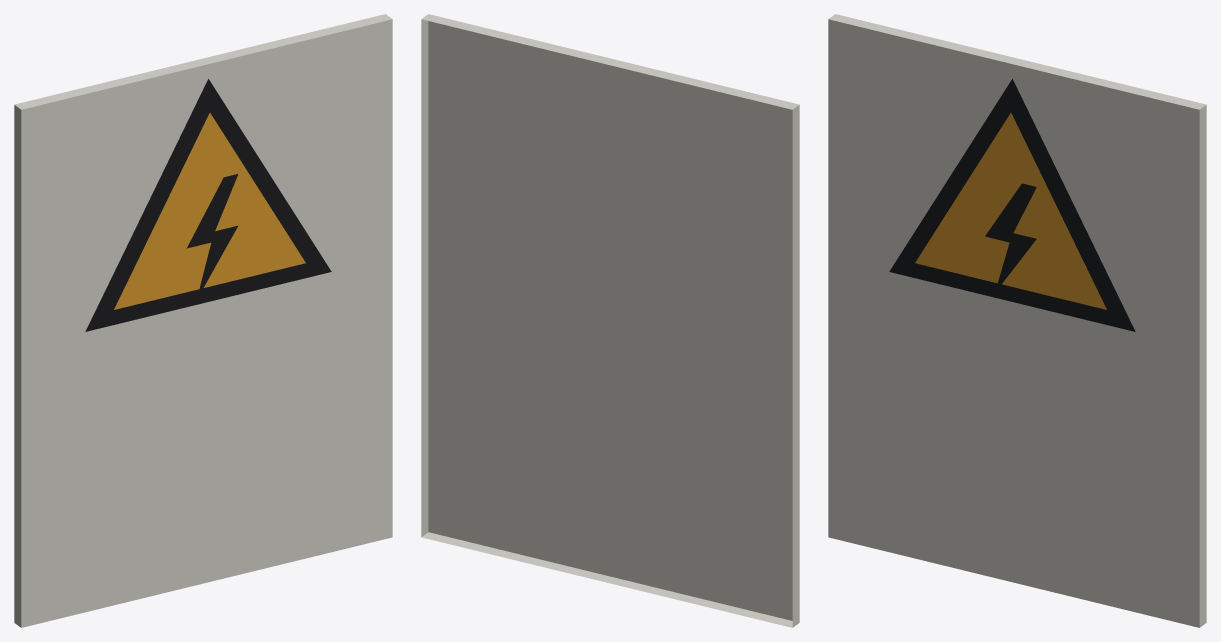
File: dc_sign_voltage.glb
3 renders of one model, left to right at view 1: azimuth 30°, elevation 25°; view 2: azimuth 150°, elevation 25°; view 3: azimuth 330°, elevation 25°, orthographic.
Parts seen in each view (by area): view 1: dc_sign_voltage; view 2: dc_sign_voltage; view 3: dc_sign_voltage.
Part boxes in pixels (left/top/right/bottom): dc_sign_voltage: left=14, top=14, right=392, bottom=627; dc_sign_voltage: left=421, top=14, right=799, bottom=627; dc_sign_voltage: left=828, top=14, right=1206, bottom=627.
Size of the model in its own units: 0.3 by 0.4 by 0.016.
